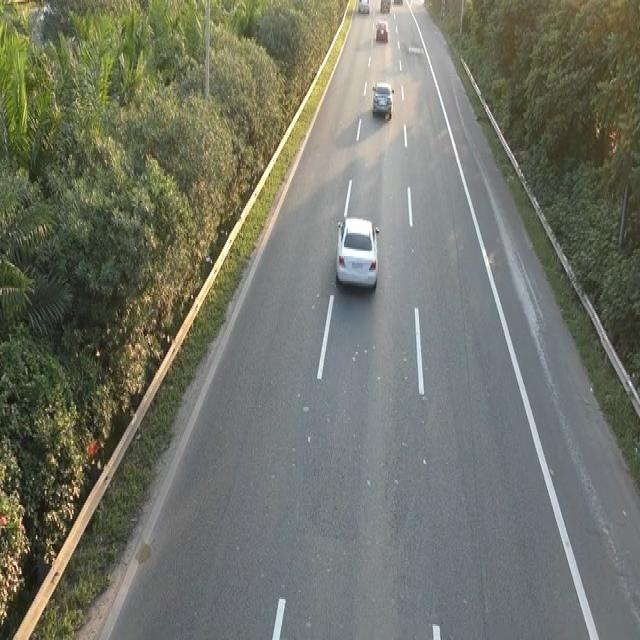bus: (333, 212, 381, 292), (370, 78, 395, 121)
